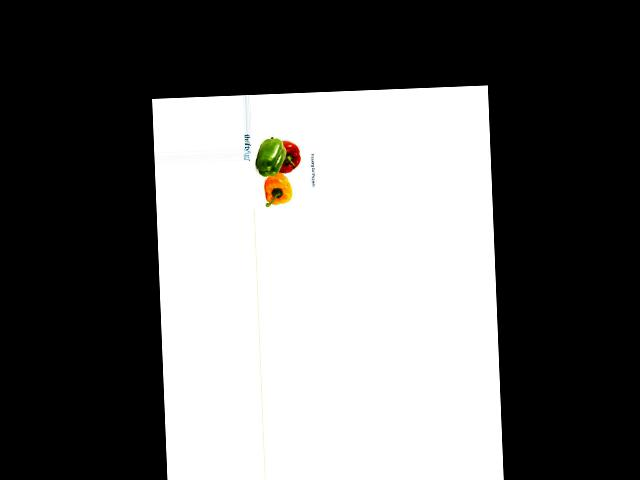bell_pepper: (251, 135, 286, 180)
